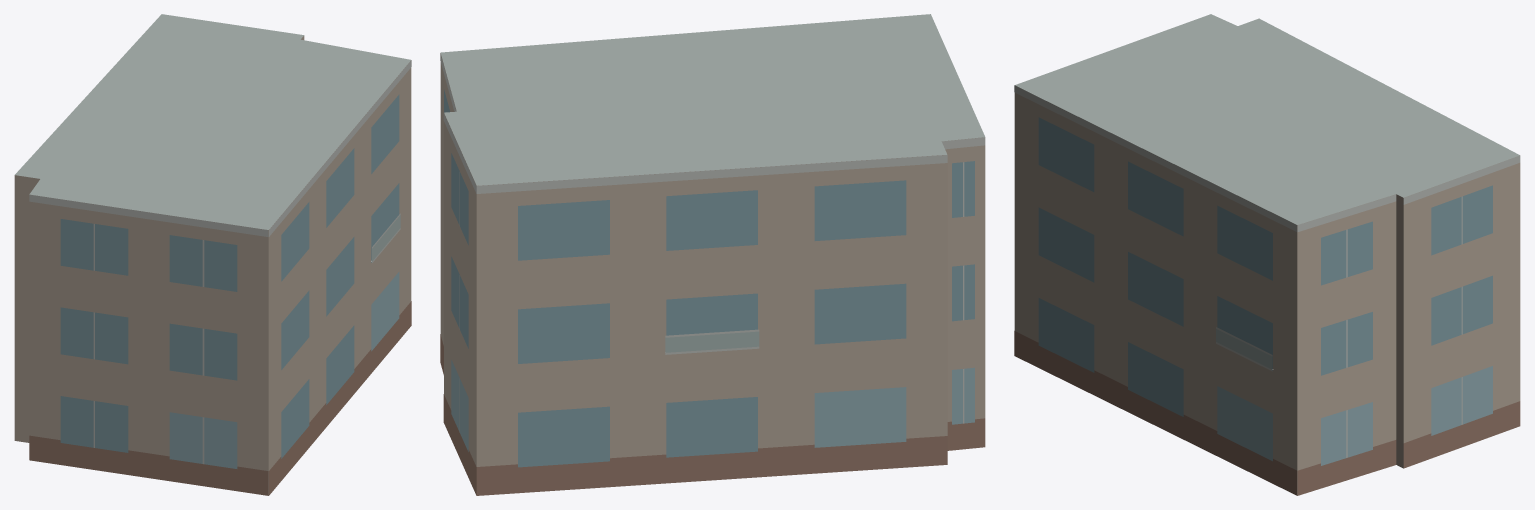
The model's file is survey-upis-32679551.glb.
3 views of the same model, side by side, from view 1: azimuth 30°, elevation 25°; view 2: azimuth 150°, elevation 25°; view 3: azimuth 270°, elevation 25° (orthographic). The views are drawn at different scales.
Parts seen in each view (by area): view 1: survey-upis-32679551.tmp; view 2: survey-upis-32679551.tmp; view 3: survey-upis-32679551.tmp.
Boxes of the visible parts, x1=… form: survey-upis-32679551.tmp: x1=14, y1=14, x2=411, y2=495; survey-upis-32679551.tmp: x1=440, y1=14, x2=985, y2=495; survey-upis-32679551.tmp: x1=1014, y1=14, x2=1520, y2=495.
Size of the model in its own units: 15.31 by 9.15 by 15.5.
